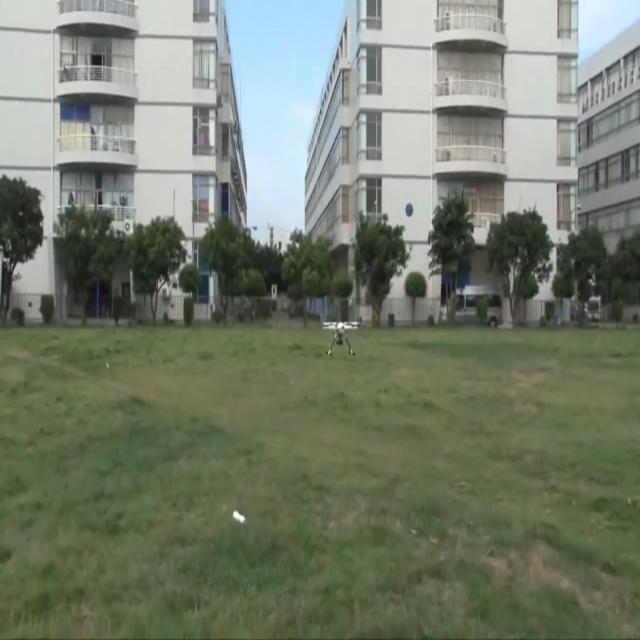drone: (322, 317, 362, 356)
